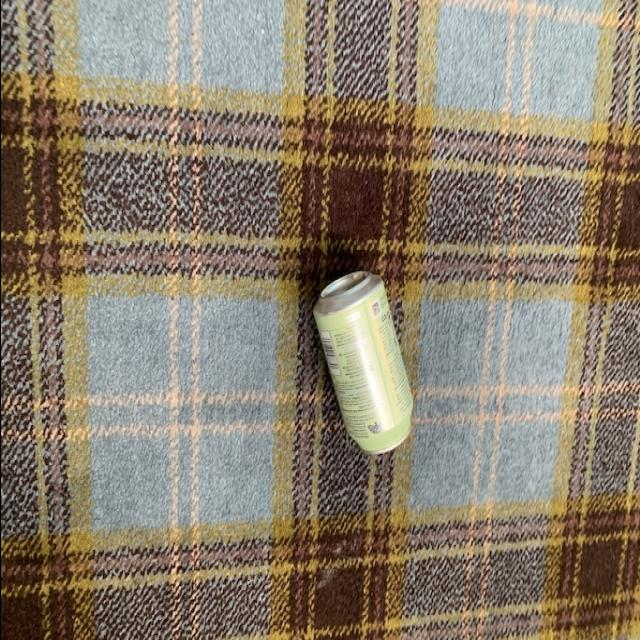Aluminum Can: (306, 268, 414, 468)
